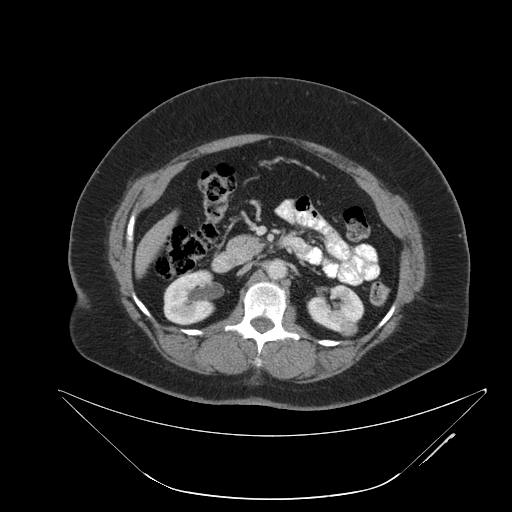Lesion: (339, 321, 360, 337)
